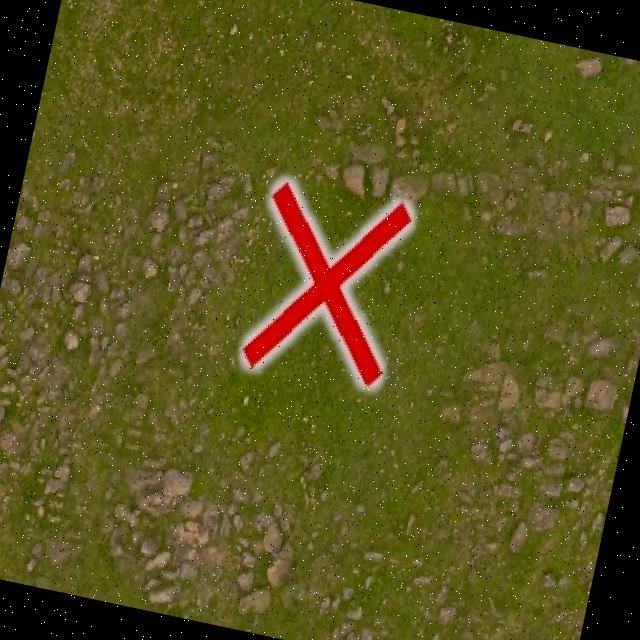x_marker: (237, 176, 415, 390)
